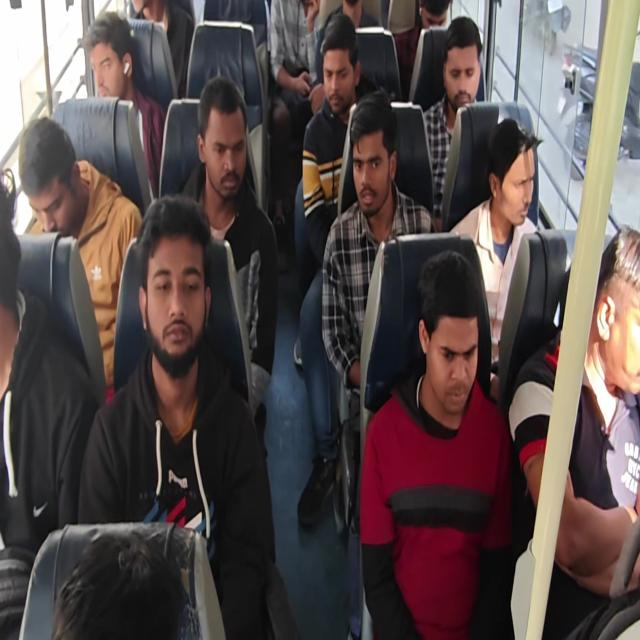person: (68, 527, 188, 640), (414, 262, 475, 421), (142, 212, 204, 363), (22, 133, 76, 244), (340, 124, 394, 224), (601, 253, 640, 391), (496, 136, 548, 239), (0, 180, 30, 357), (200, 90, 244, 197), (86, 18, 142, 101), (436, 36, 479, 119), (318, 42, 354, 114), (118, 0, 176, 42), (416, 0, 454, 51)
